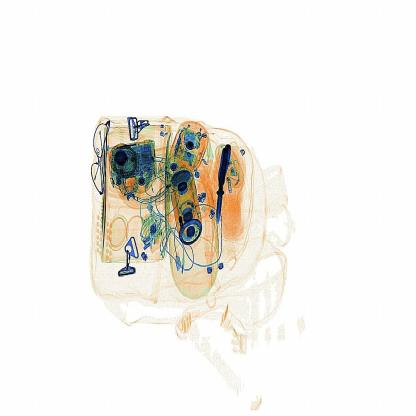gun: (210, 128, 237, 227)
